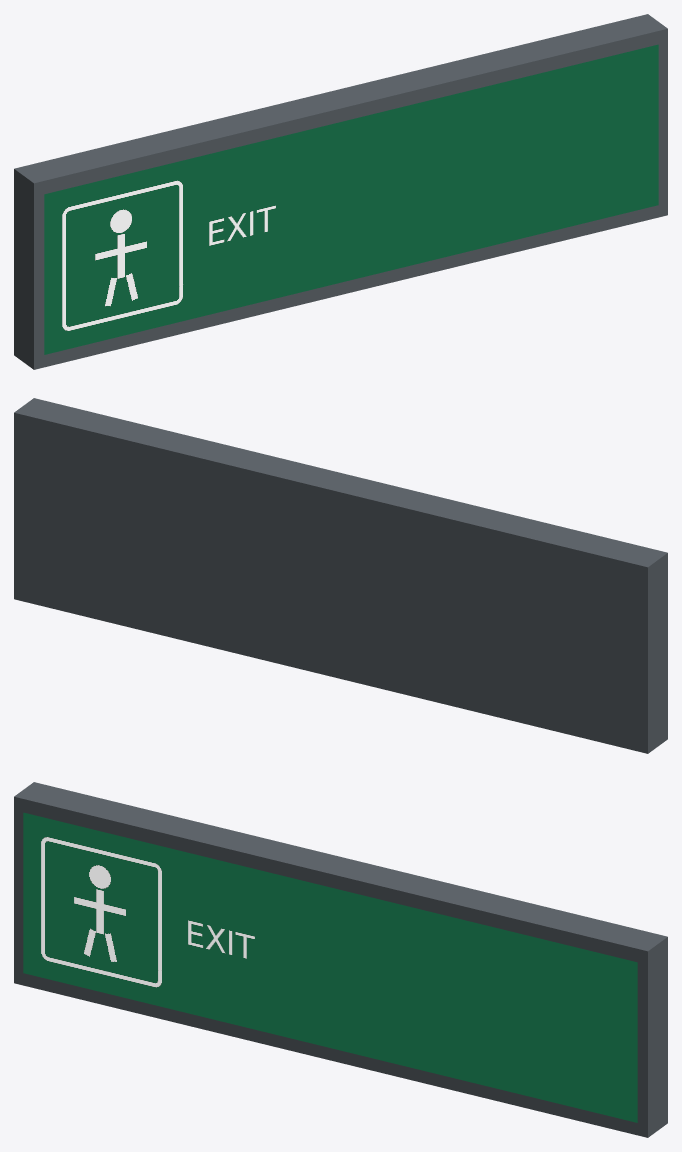
Rendered from 13_wall_exit_lit.glb.
The picture shows the model from 3 angles, top to bottom: view 1: azimuth 30°, elevation 25°; view 2: azimuth 150°, elevation 25°; view 3: azimuth 330°, elevation 25°; orthographic projection.
Parts seen in each view (by area): view 1: Sign_Face, Housing; view 2: Housing; view 3: Sign_Face, Housing.
Part boxes in pixels (x1,y1,x2,y2): Sign_Face: (44,44,658,354); Housing: (14,14,667,369); Housing: (14,398,667,753); Sign_Face: (23,812,637,1122); Housing: (14,782,667,1137).
Size of the model in its own units: 0.64 by 0.18 by 0.036.
Materials: 2 (1 with a texture image).
